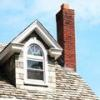chimneys: (56, 3, 76, 71)
